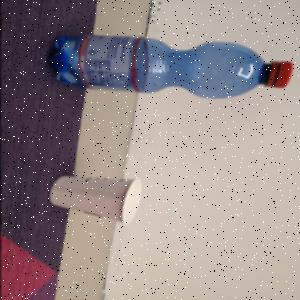Cup: (45, 174, 145, 229)
Plastic-bottle: (48, 35, 294, 101)
